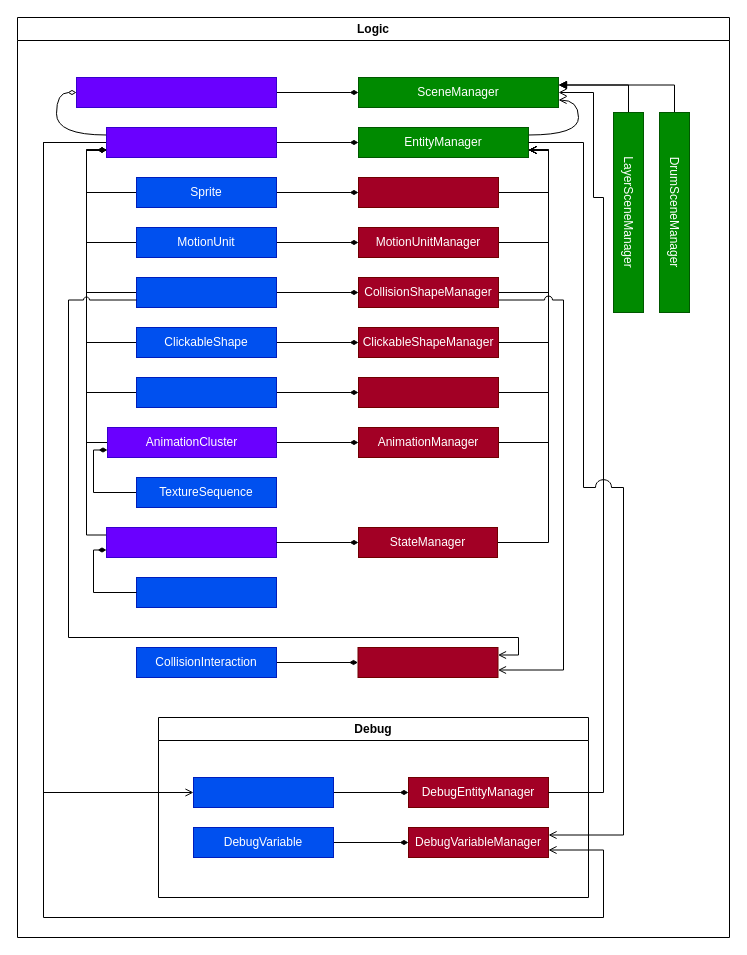
Some shapes in this 747 by 955 pixel diagram are drawn without their labels. The centre of each missing label's shape, as x and y in pixels:
CollisionManager: point (427, 662)
CollisionShape(s): point (206, 292)
DebugEntity: point (263, 792)
Entity: point (191, 142)
Scene: point (176, 92)
SpriteManager: point (428, 192)
SpriteText: point (206, 392)
SpriteTextManager: point (428, 392)
State: point (206, 592)
StateCluster: point (191, 542)
